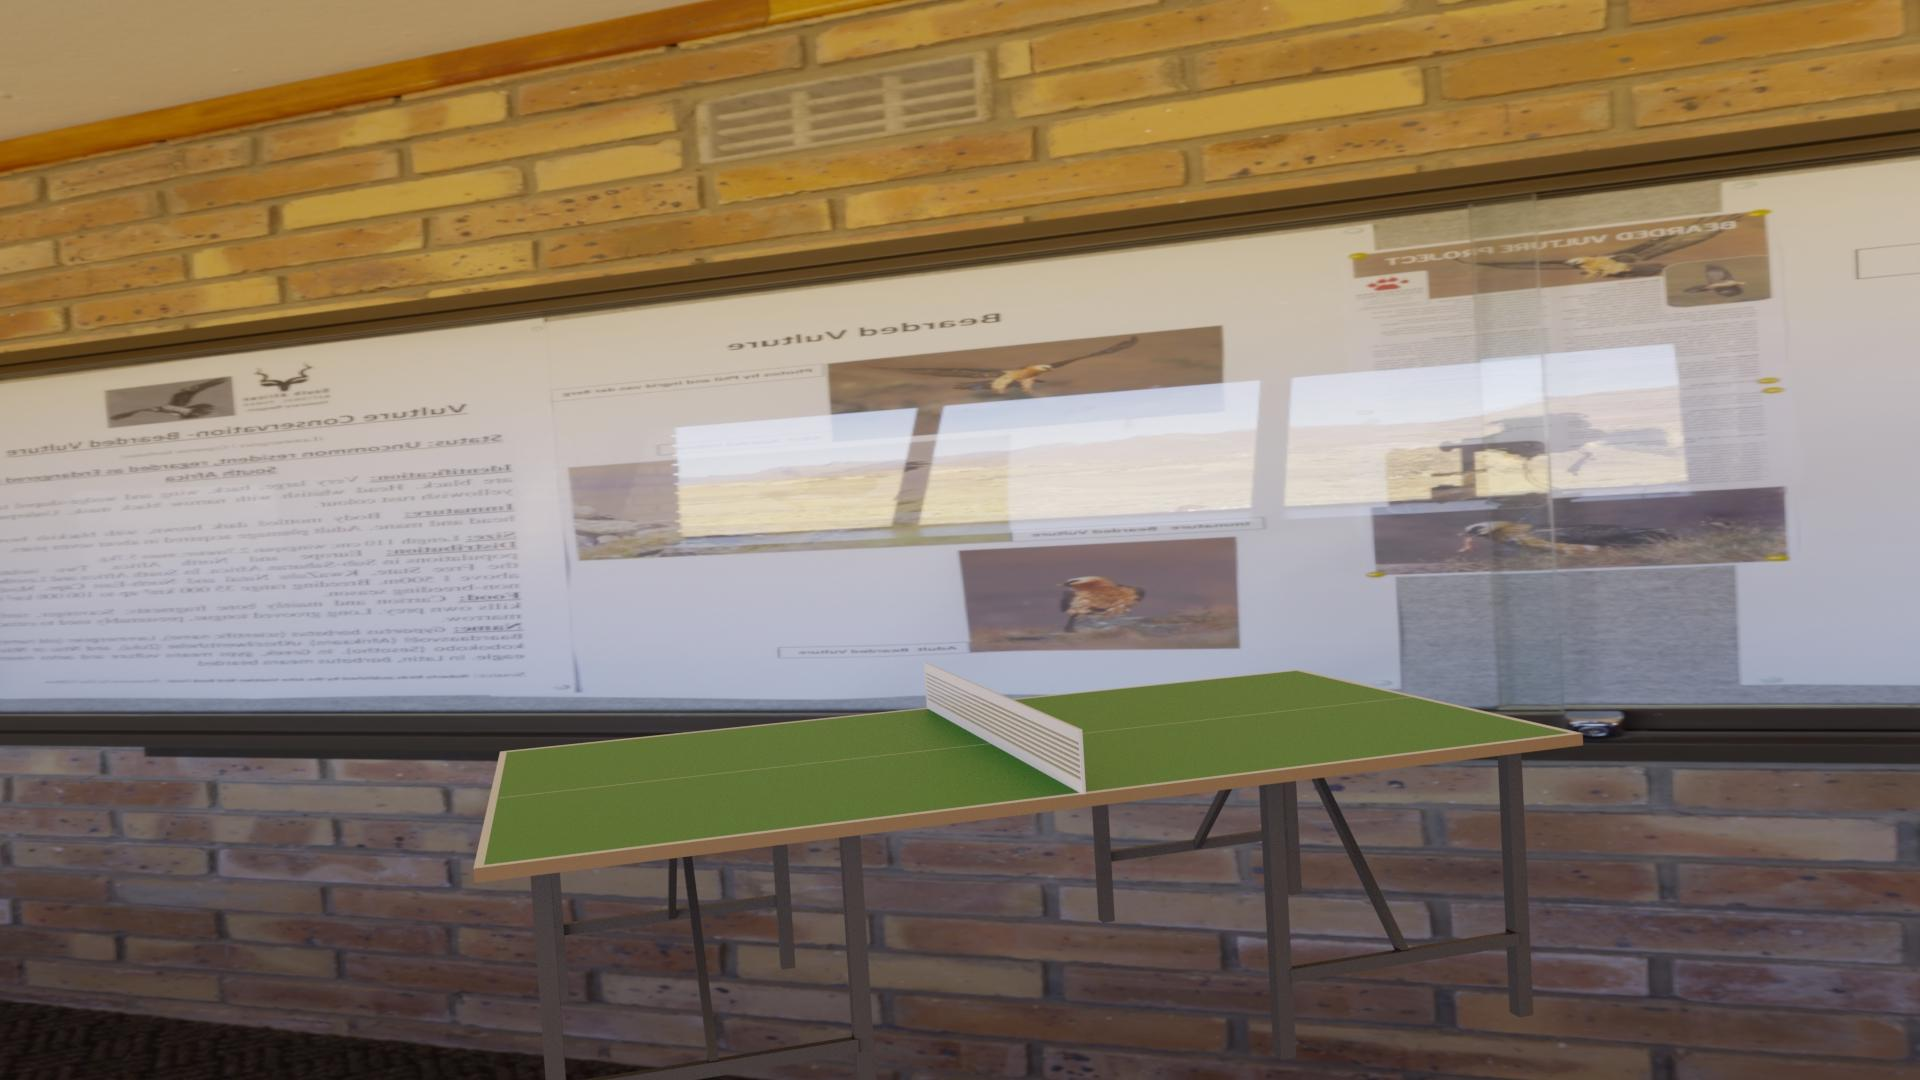table: (484, 671, 1571, 865)
